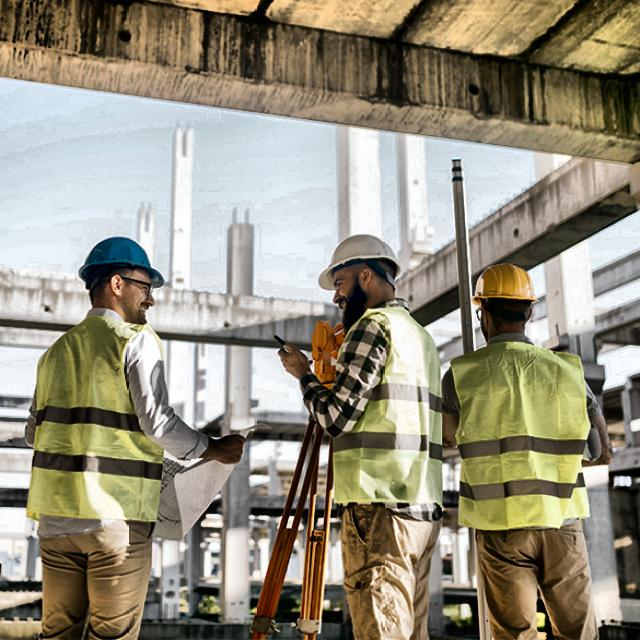safety_helmet: (316, 227, 407, 294), (85, 235, 166, 292), (472, 255, 538, 317)
safety_jacket: (34, 316, 183, 536), (322, 318, 463, 529), (453, 347, 591, 544)
